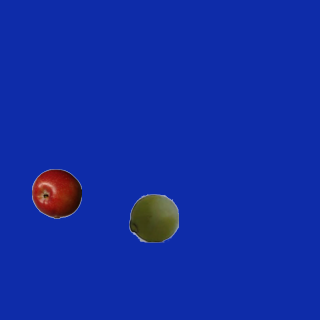Apple Braeburn: (31, 168, 81, 218)
Grape White 4: (128, 192, 178, 242)
